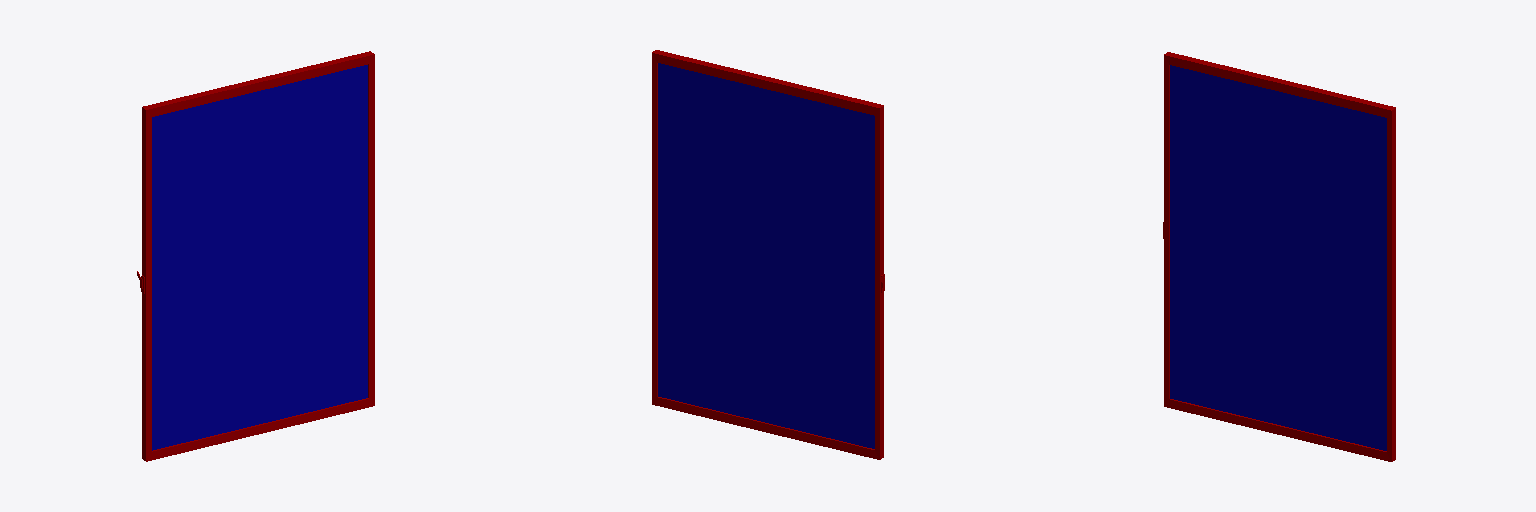
Rendered from Buildings02_Window.obj.
3 views of the same model, side by side, from view 1: azimuth 30°, elevation 25°; view 2: azimuth 150°, elevation 25°; view 3: azimuth 330°, elevation 25° (orthographic).
Visible parts, largest first — view 1: Plane.001, Cube.003_Cube.007; view 2: Plane.001, Cube.003_Cube.007; view 3: Plane.001, Cube.003_Cube.007.
Part boxes in pixels (bbox=[...]): Plane.001: bbox=[152, 65, 367, 450]; Cube.003_Cube.007: bbox=[137, 51, 374, 461]; Plane.001: bbox=[658, 63, 874, 448]; Cube.003_Cube.007: bbox=[652, 50, 884, 459]; Plane.001: bbox=[1170, 65, 1386, 450]; Cube.003_Cube.007: bbox=[1163, 52, 1395, 461].
Size of the model in its own units: 1.33 by 1.93 by 0.0655.